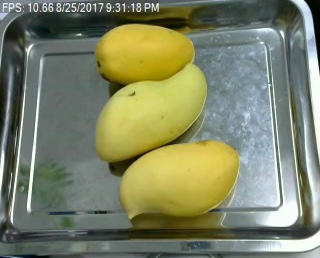Mango: (92, 63, 210, 163), (118, 140, 238, 223), (95, 24, 195, 84)
